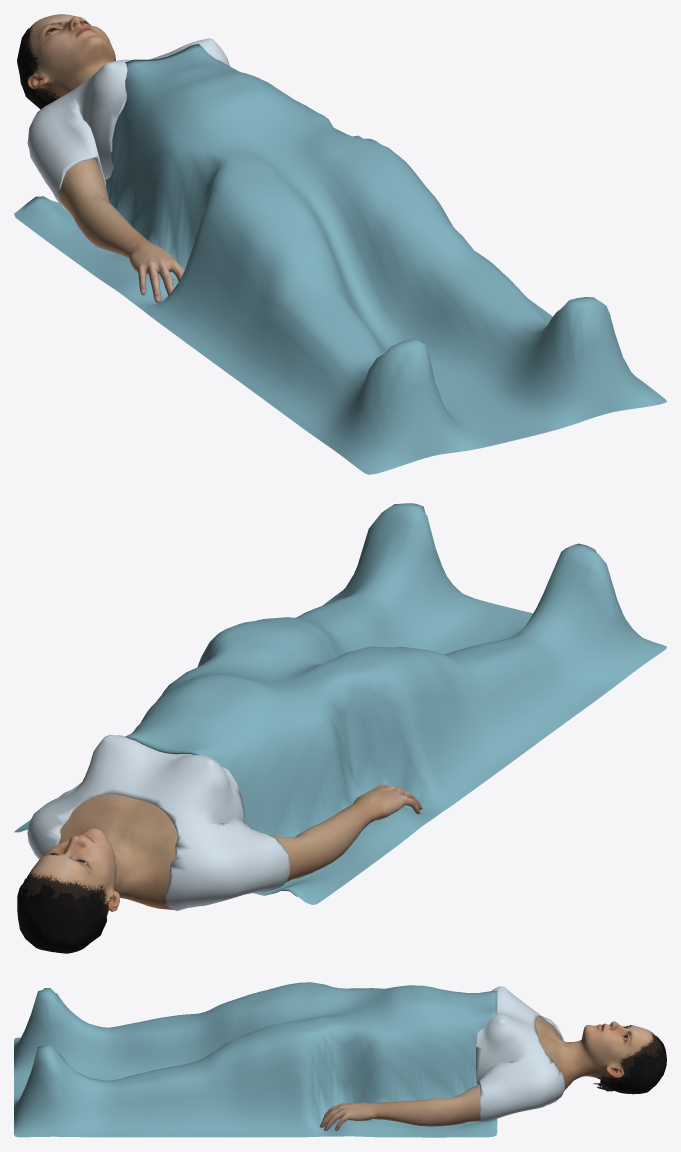
The picture shows the model from 3 angles, top to bottom: view 1: azimuth 30°, elevation 25°; view 2: azimuth 150°, elevation 25°; view 3: azimuth 270°, elevation 25°; orthographic projection. The views are drawn at different scales.
Visible parts, largest first — view 1: sheet, gown, arms, body, hair; view 2: sheet, gown, body, arms, hair; view 3: sheet, gown, body, arms, hair.
Boxes of the visible parts, box(x1,y1,x2,y2) form: sheet: box(14, 44, 666, 474); gown: box(27, 38, 229, 210); arms: box(59, 158, 184, 302); body: box(22, 14, 115, 104); hair: box(17, 28, 51, 109); sheet: box(14, 503, 666, 904); gown: box(27, 734, 289, 910); body: box(20, 794, 177, 917); arms: box(271, 784, 422, 882); hair: box(17, 878, 106, 953); sheet: box(14, 982, 497, 1137); gown: box(476, 986, 564, 1121); body: box(535, 1016, 662, 1090); arms: box(319, 1084, 480, 1130); hair: box(593, 1036, 666, 1094).
Size of the model in its own units: 0.6371 by 0.2826 by 1.76.
8 materials, 6 textured.
